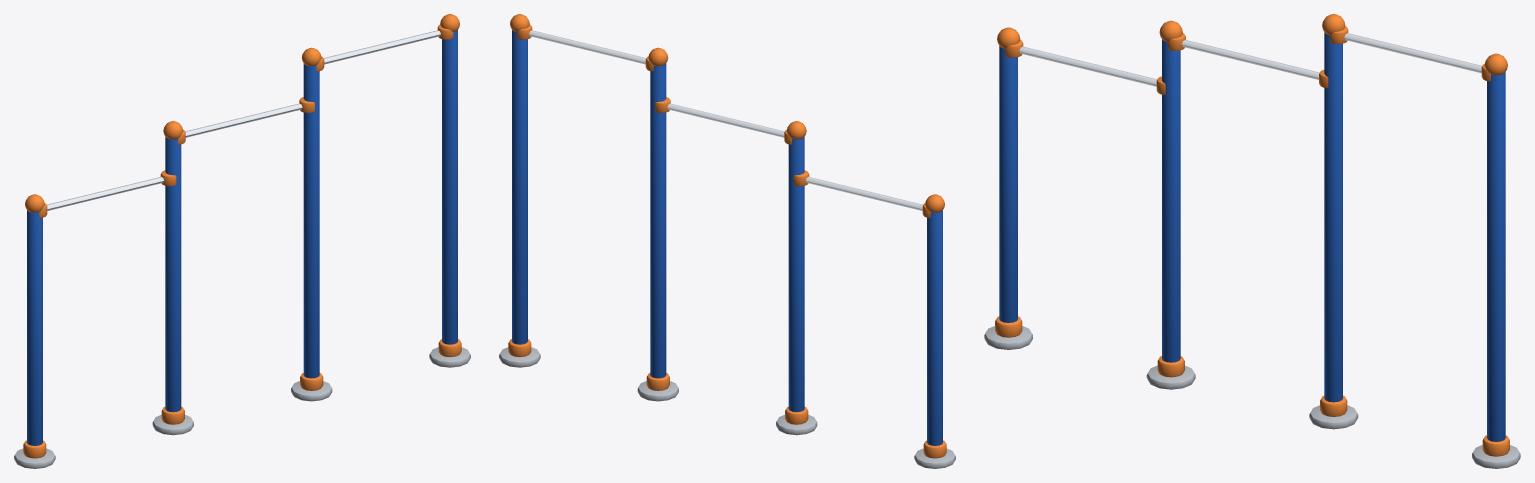
The model's file is academia_barras.glb.
The picture shows the model from 3 angles, left to right: view 1: azimuth 30°, elevation 25°; view 2: azimuth 150°, elevation 25°; view 3: azimuth 330°, elevation 25°; orthographic projection. The views are drawn at different scales.
Parts seen in each view (by area): view 1: academia_barras; view 2: academia_barras; view 3: academia_barras.
Boxes of the visible parts, bbox=[...] form: academia_barras: bbox=[14, 14, 470, 468]; academia_barras: bbox=[499, 14, 955, 468]; academia_barras: bbox=[984, 14, 1520, 468].
Bounding box in the file's own units: 3.59 × 2.62 × 0.286.
1 material, 1 textured.
